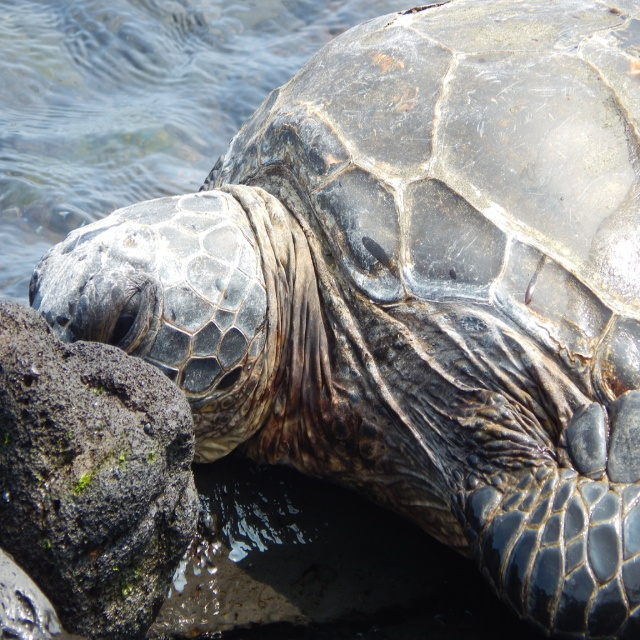Sea turtle: (29, 0, 640, 639)
